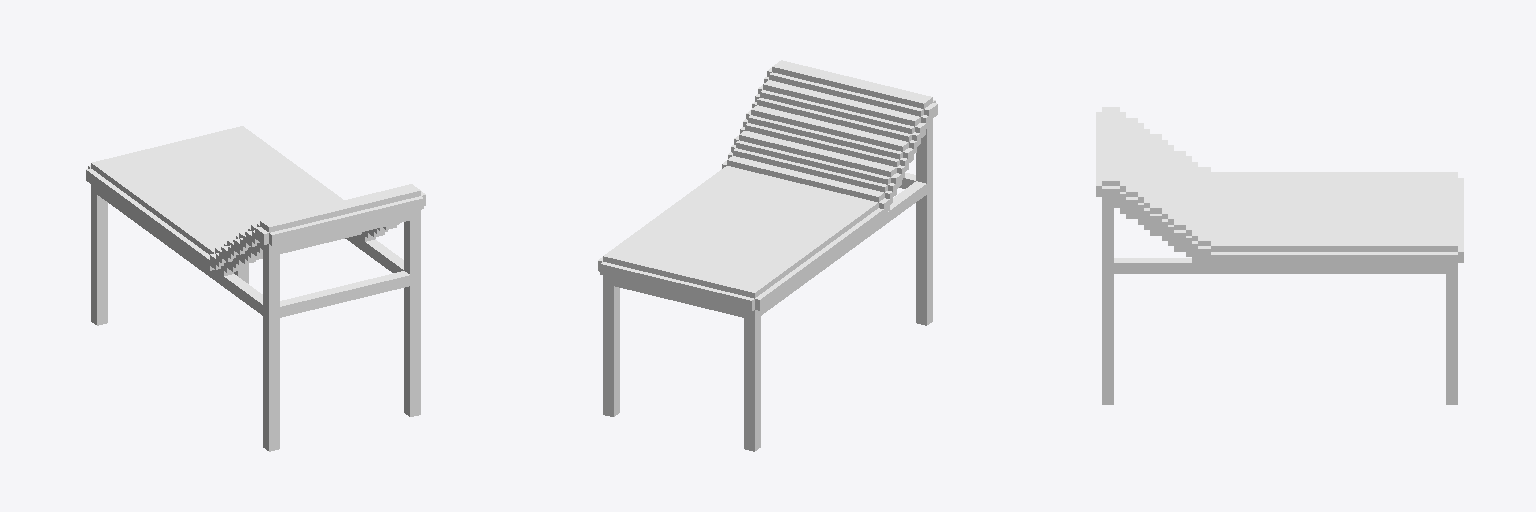
File: medicbed.obj
3 views of the same model, side by side, from view 1: azimuth 30°, elevation 25°; view 2: azimuth 150°, elevation 25°; view 3: azimuth 270°, elevation 25° (orthographic).
Parts seen in each view (by area): view 1: medicbed; view 2: medicbed; view 3: medicbed.
Boxes of the visible parts, <box> form: medicbed: <box>86,126,425,451</box>; medicbed: <box>598,60,937,451</box>; medicbed: <box>1096,107,1463,404</box>.
Size of the model in its own units: 31 by 41 by 61.